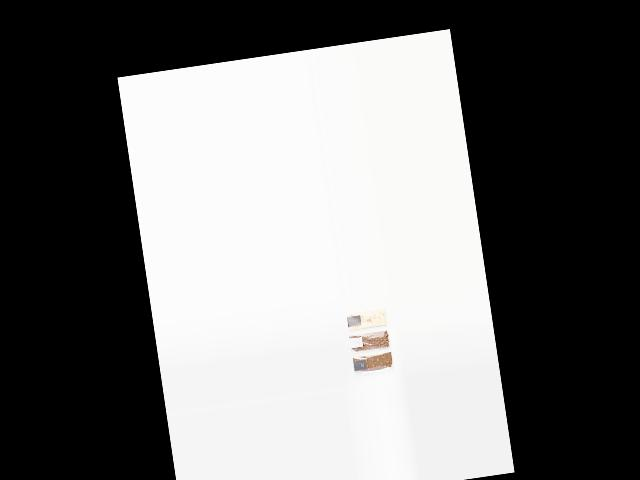chocolate: (352, 349, 398, 379)
